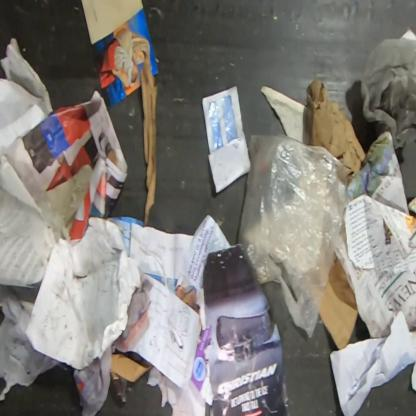cardboard: (307, 78, 368, 176), (317, 252, 359, 350)
soft_plastic: (236, 134, 355, 339), (362, 38, 416, 150)
